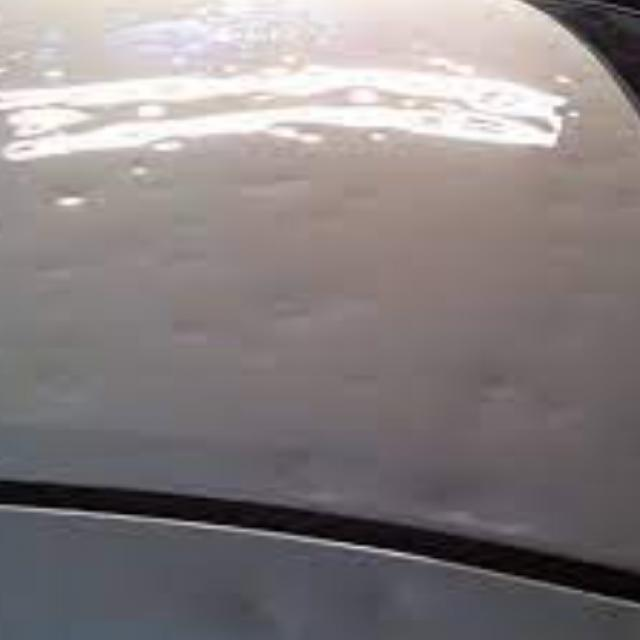dents: (474, 368, 578, 437), (262, 433, 354, 509), (146, 303, 244, 362), (231, 576, 317, 640), (362, 568, 436, 636), (221, 170, 323, 219), (254, 274, 327, 339), (313, 360, 400, 412), (346, 270, 411, 335), (24, 360, 98, 412), (157, 244, 235, 288), (31, 186, 116, 225), (333, 82, 390, 126), (21, 262, 92, 294), (336, 172, 376, 218), (134, 127, 189, 157), (157, 131, 192, 157)
